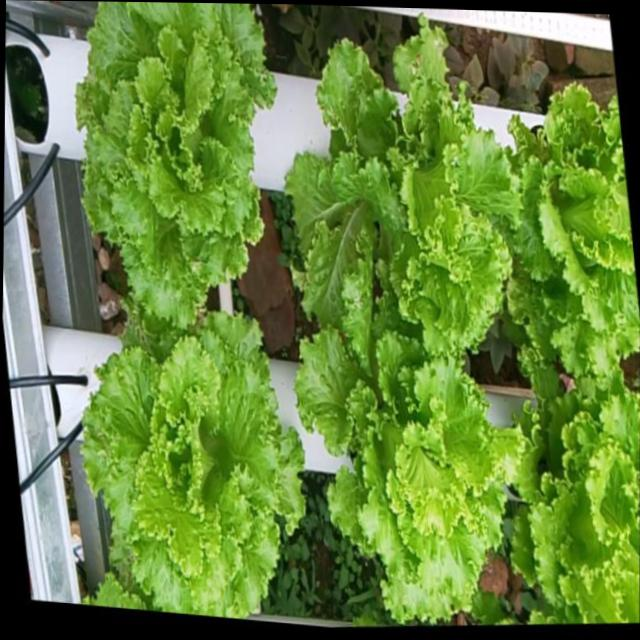Mature: (276, 4, 521, 350), (82, 307, 307, 619), (297, 325, 526, 622), (76, 1, 277, 328), (510, 77, 640, 372), (515, 354, 640, 624)
